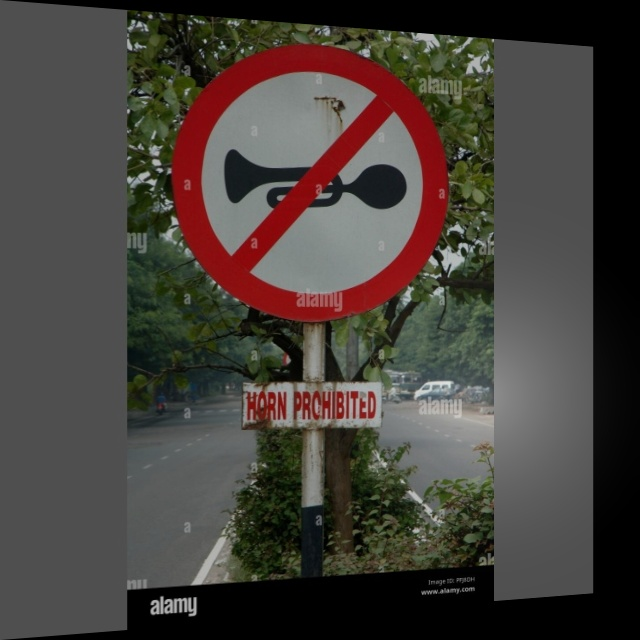Horn_Prohibited: (181, 39, 447, 314)
